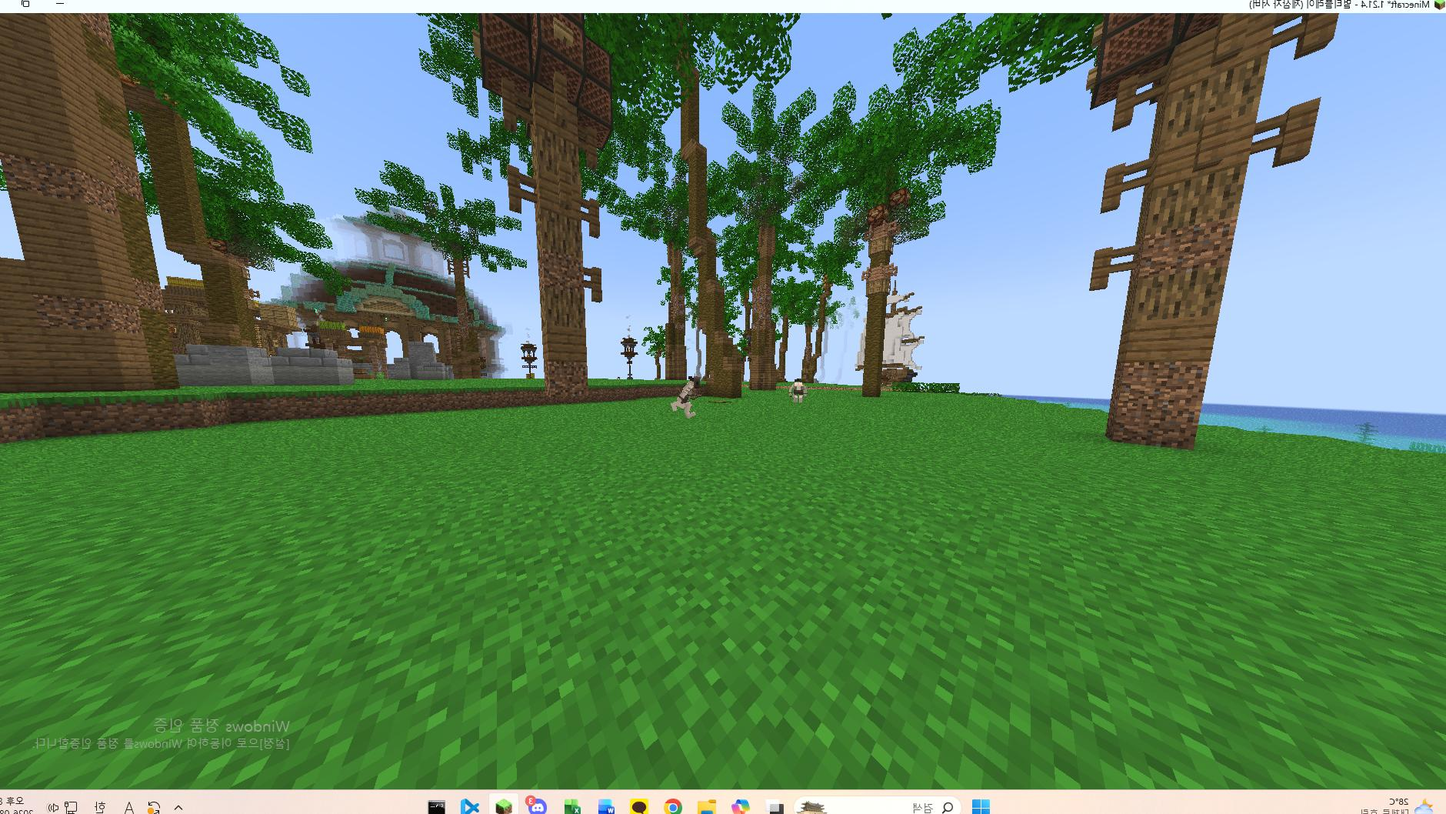bow_indian: (666, 371, 711, 427)
